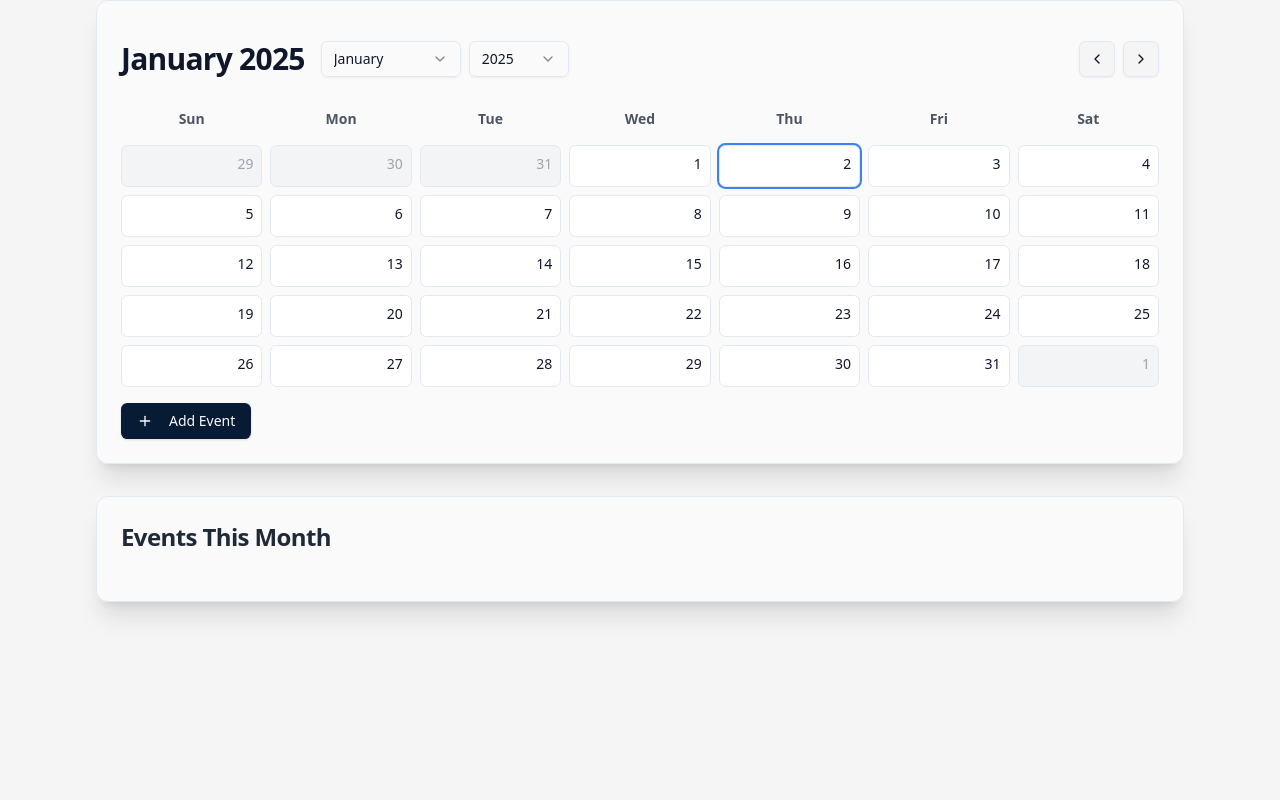
Test: Calendar Component › opens modal on date click when user is logged in
This screenshot has width=1280, height=800.
Click the text "2".
click(847, 164)  # box [843, 154, 851, 173]
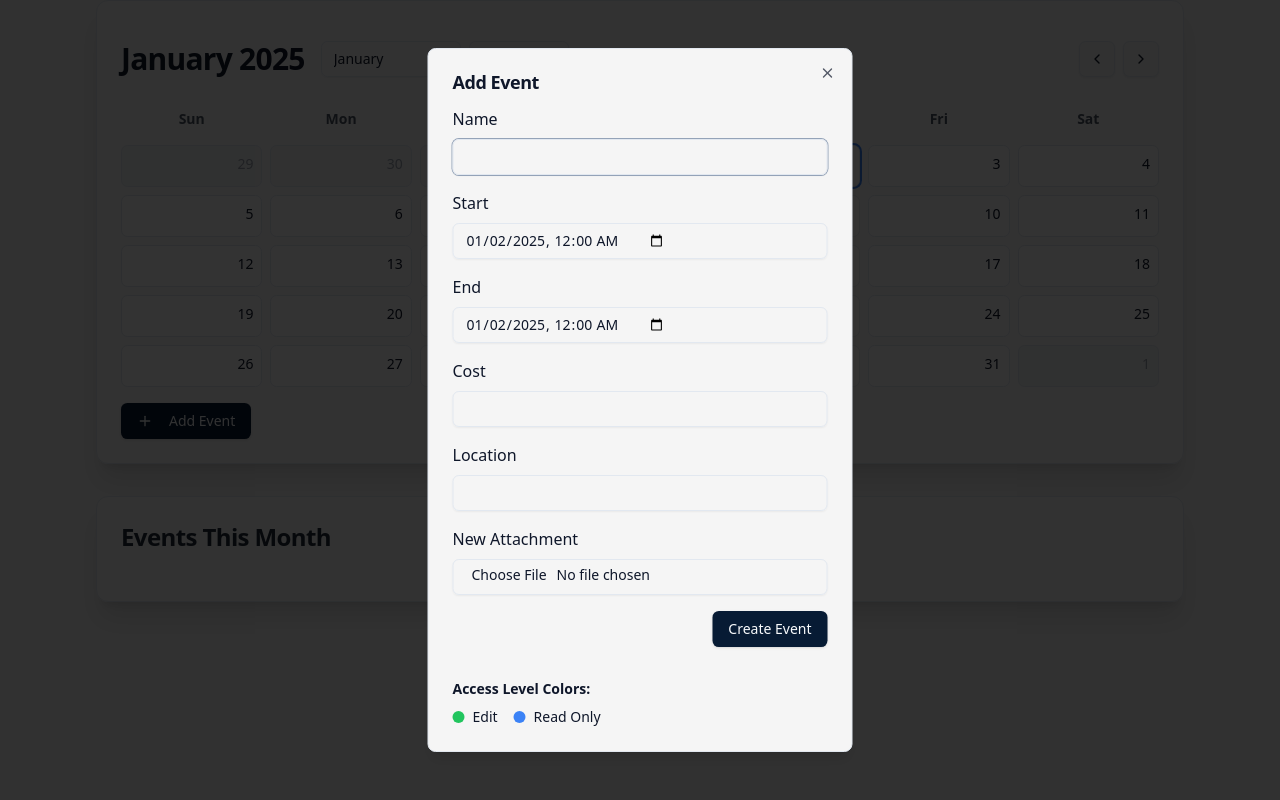
Now the dialog is shown, box [428, 48, 852, 752]
